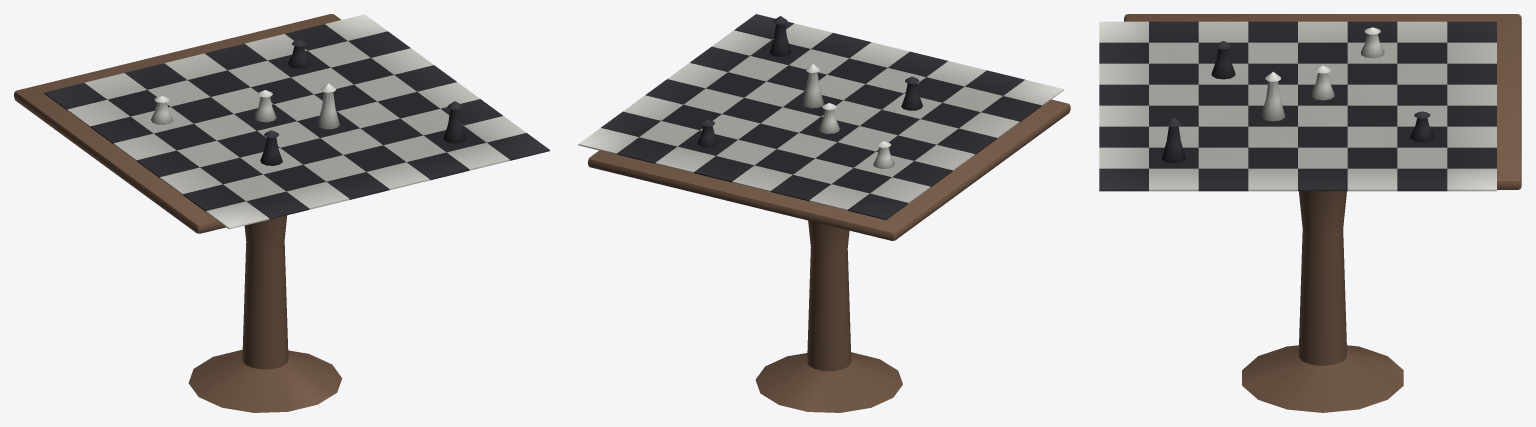
The model's file is chess.glb.
3 views of the same model, side by side, from view 1: azimuth 30°, elevation 25°; view 2: azimuth 150°, elevation 25°; view 3: azimuth 270°, elevation 25° (orthographic). The views are drawn at different scales.
Visible parts, largest first — view 1: boat_ivory, boat_ebony, boat_darkwood; view 2: boat_ivory, boat_ebony, boat_darkwood; view 3: boat_ivory, boat_ebony, boat_darkwood.
Part boxes in pixels (x1=…): boat_ivory: x1=67, y1=14, x2=526, y2=229; boat_ebony: x1=44, y1=24, x2=549, y2=219; boat_darkwood: x1=14, y1=14, x2=342, y2=412; boat_ivory: x1=578, y1=23, x2=1063, y2=210; boat_ebony: x1=601, y1=14, x2=1041, y2=219; boat_darkwood: x1=588, y1=99, x2=1070, y2=412; boat_ivory: x1=1099, y1=21, x2=1496, y2=191; boat_ebony: x1=1099, y1=21, x2=1496, y2=191; boat_darkwood: x1=1124, y1=14, x2=1521, y2=412.
Size of the model in its own units: 1.02 by 0.872 by 1.02.
